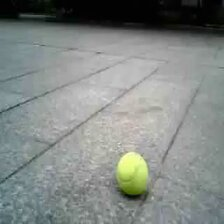tennis: (116, 152, 150, 192)
